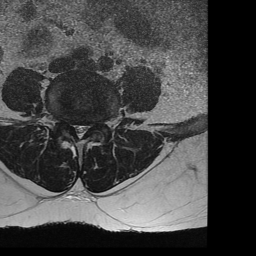CCS_stenosis: (77, 116, 83, 145)
LFS_severe_stenosis: (90, 115, 98, 135)
LLS_stenosis: (83, 119, 90, 139)
RFS_severe_stenosis: (62, 113, 69, 135)
RLS_severe_stenosis: (69, 116, 77, 135)
